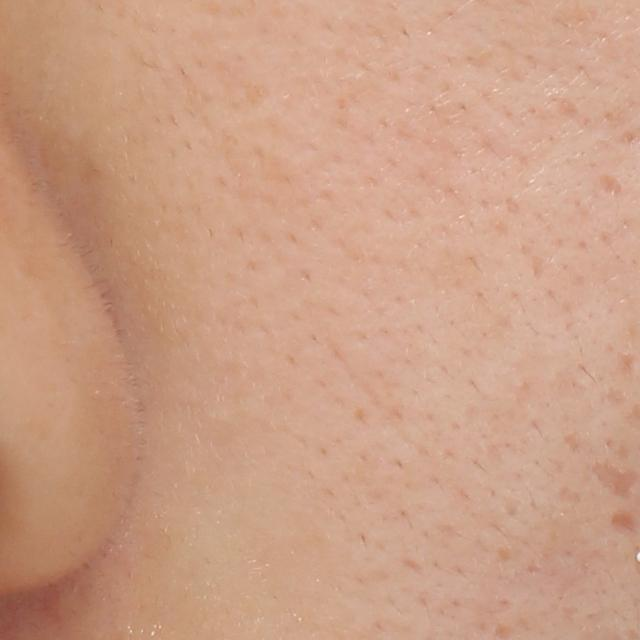atrophic_scar: (586, 459, 638, 500), (612, 509, 636, 534), (596, 174, 622, 195)
